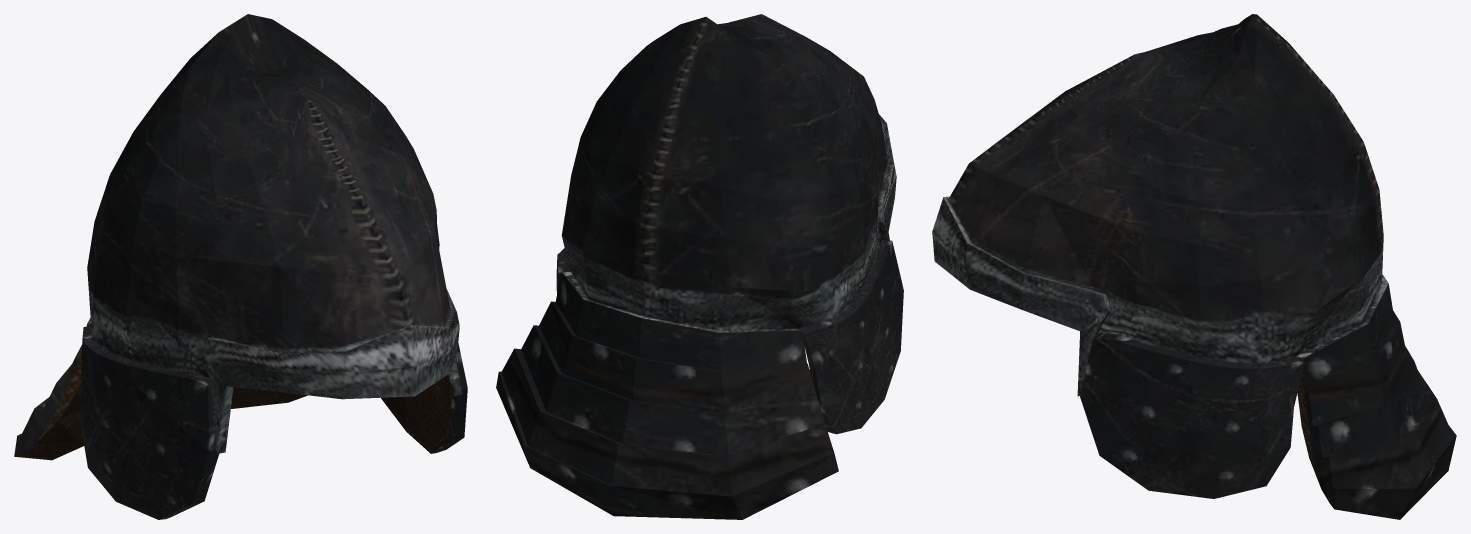
File: ITHL_HELMET_G3_ORIENT_01_LEATHER.glb
3 views of the same model, side by side, from view 1: azimuth 30°, elevation 25°; view 2: azimuth 150°, elevation 25°; view 3: azimuth 270°, elevation 25° (orthographic). The views are drawn at different scales.
Parts seen in each view (by area): view 1: ITHL_HELMET_G3_ORIENT_01_LEATHER; view 2: ITHL_HELMET_G3_ORIENT_01_LEATHER; view 3: ITHL_HELMET_G3_ORIENT_01_LEATHER.
Boxes of the visible parts, x1,y1,x2,y2 form: ITHL_HELMET_G3_ORIENT_01_LEATHER: [14, 14, 467, 519]; ITHL_HELMET_G3_ORIENT_01_LEATHER: [496, 14, 903, 519]; ITHL_HELMET_G3_ORIENT_01_LEATHER: [932, 14, 1456, 519].
Bounding box in the file's own units: 0.2928 × 0.3523 × 0.3666.
Materials: 1 (1 with a texture image).
